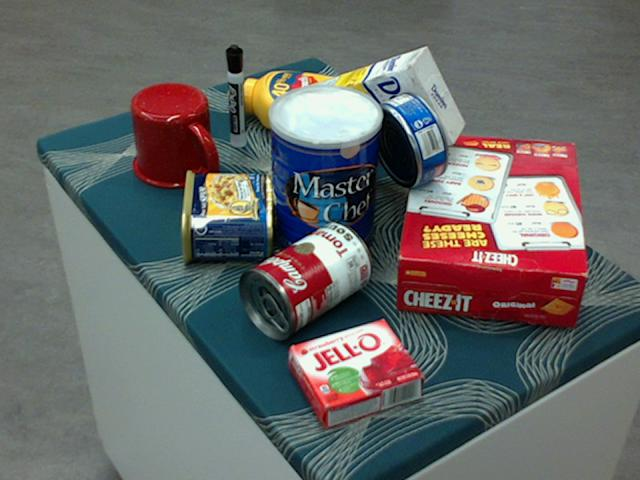cracker_box: (393, 132, 586, 326)
gelatin_box: (288, 318, 424, 427)
large_marker: (224, 44, 247, 147)
master_chef_can: (267, 86, 381, 268)
mug: (130, 82, 218, 188)
mustard_bottle: (226, 69, 394, 145)
potted_meat_can: (179, 170, 272, 264)
sugar_box: (272, 47, 463, 177)
tomato_soup_can: (236, 222, 371, 338)
tuna_fish_can: (370, 90, 449, 186)
